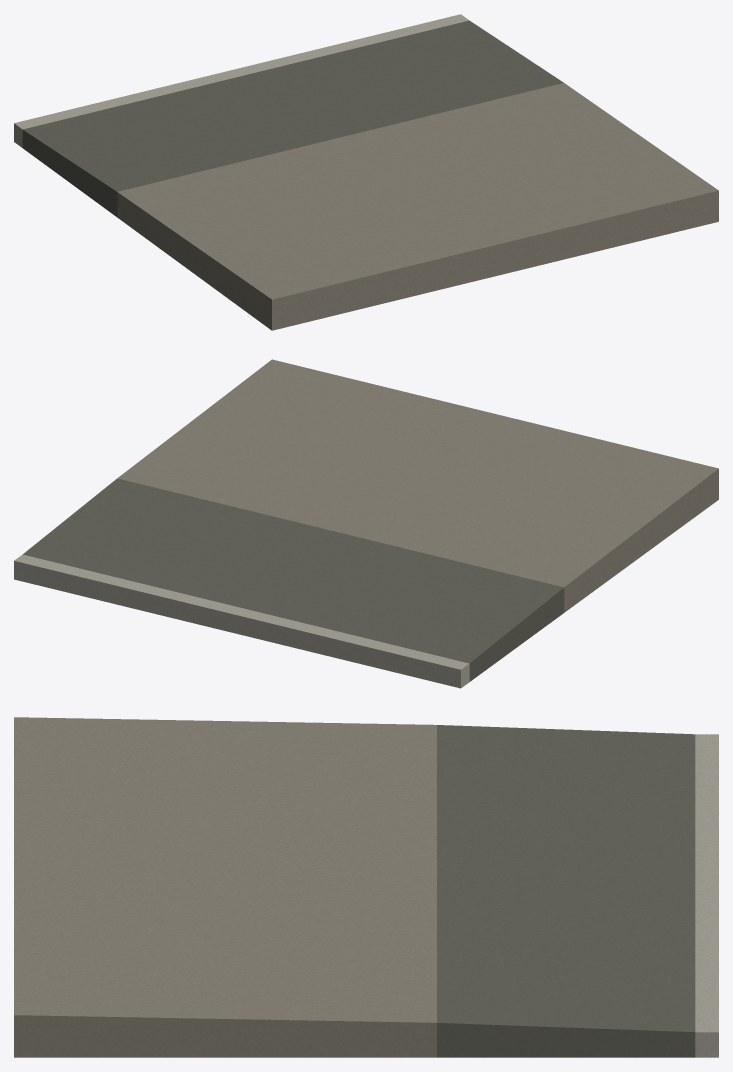
The model's file is elmina-sidewalk-sideyard-3m.glb.
The picture shows the model from 3 angles, top to bottom: view 1: azimuth 30°, elevation 25°; view 2: azimuth 150°, elevation 25°; view 3: azimuth 270°, elevation 25°; orthographic projection. The views are drawn at different scales.
Visible parts, largest first — view 1: sideyard_3m__ClearWalk, sideyard_3m__Service, sideyard_3m__Curb_Service; view 2: sideyard_3m__ClearWalk, sideyard_3m__Service, sideyard_3m__Curb_Service; view 3: sideyard_3m__ClearWalk, sideyard_3m__Service, sideyard_3m__Curb_Service.
Part boxes in pixels (x1=…): sideyard_3m__ClearWalk: x1=117, y1=83, x2=718, y2=330; sideyard_3m__Service: x1=22, y1=20, x2=563, y2=216; sideyard_3m__Curb_Service: x1=14, y1=14, x2=468, y2=147; sideyard_3m__ClearWalk: x1=117, y1=359, x2=718, y2=612; sideyard_3m__Service: x1=23, y1=478, x2=564, y2=681; sideyard_3m__Curb_Service: x1=14, y1=554, x2=469, y2=688; sideyard_3m__ClearWalk: x1=14, y1=717, x2=436, y2=1057; sideyard_3m__Service: x1=437, y1=725, x2=695, y2=1057; sideyard_3m__Curb_Service: x1=695, y1=734, x2=718, y2=1057.
Size of the model in its own units: 3 by 0.2 by 3.
Materials: 3 (3 with a texture image).
